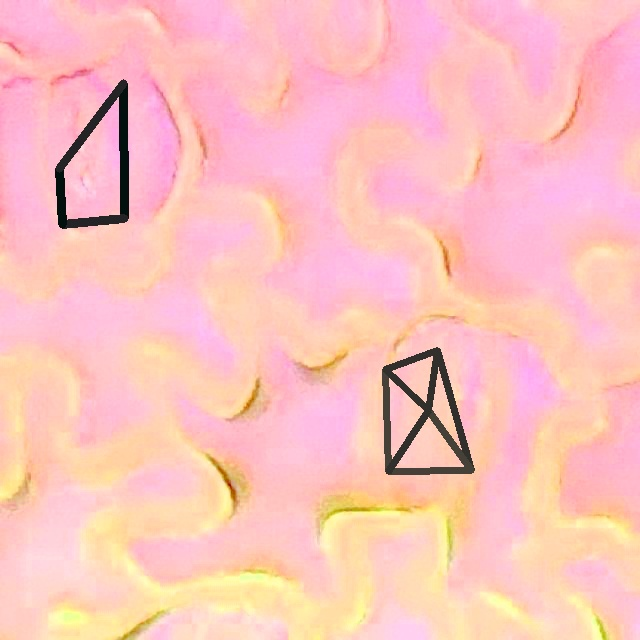close: (382, 347, 474, 474), (55, 79, 128, 228)
